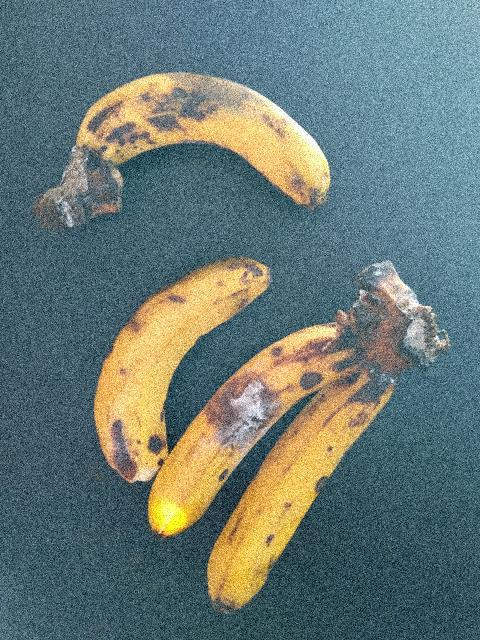overripe: (121, 321, 352, 554), (210, 368, 400, 618), (82, 51, 347, 214), (83, 261, 285, 455)
rotten: (187, 347, 309, 481)
